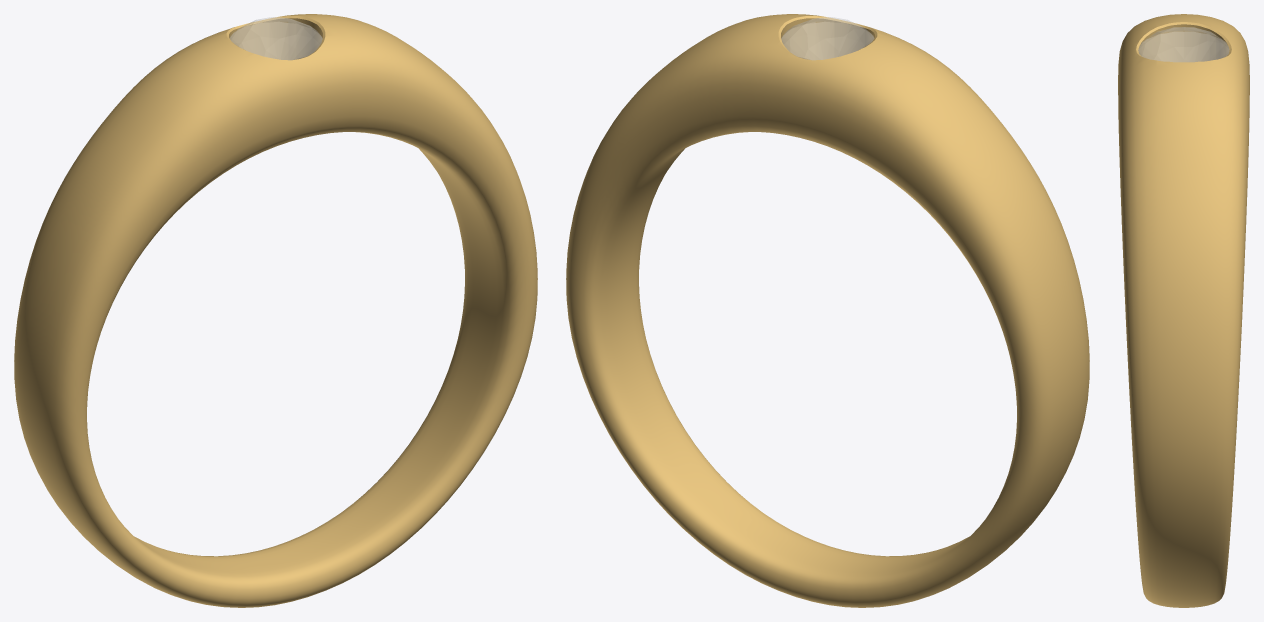
The model's file is ring-jonc.glb.
3 views of the same model, side by side, from view 1: azimuth 30°, elevation 25°; view 2: azimuth 150°, elevation 25°; view 3: azimuth 270°, elevation 25° (orthographic). The views are drawn at different scales.
Parts seen in each view (by area): view 1: metal, gema_00; view 2: metal, gema_00; view 3: metal, gema_00.
Boxes of the visible parts, <box> form: metal: <box>14,14,537,607</box>; gema_00: <box>230,17,322,59</box>; metal: <box>566,14,1089,607</box>; gema_00: <box>781,17,873,59</box>; metal: <box>1118,14,1249,607</box>; gema_00: <box>1138,27,1229,61</box>.
Bounding box in the file's own units: 0.0216 × 0.0237 × 0.00516.
